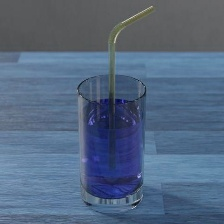drinking_straw: (102, 1, 157, 175)
glass: (71, 69, 150, 220)
